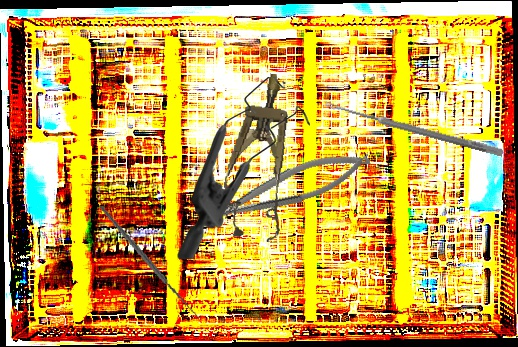Hook Surgical: (99, 190, 207, 333)
Needle Holder: (194, 142, 376, 234)
Speculum: (177, 77, 310, 259), (216, 69, 306, 244)
Surgical Spoon: (323, 100, 505, 157)
